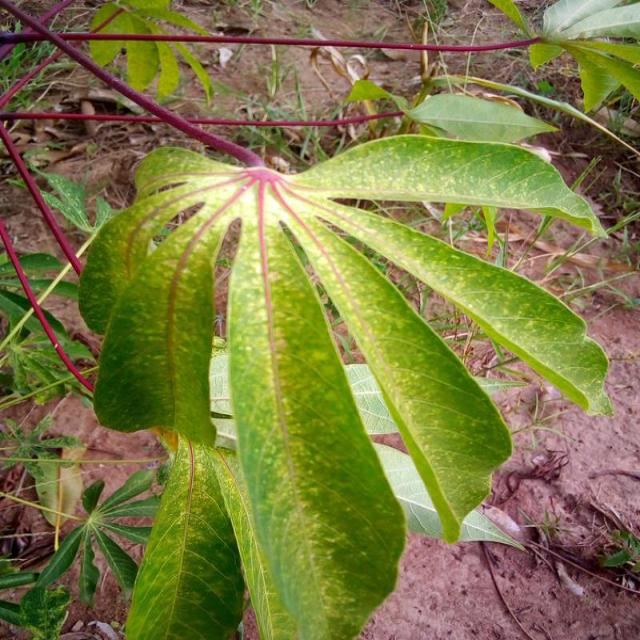cassava leaf: (78, 132, 612, 638)
